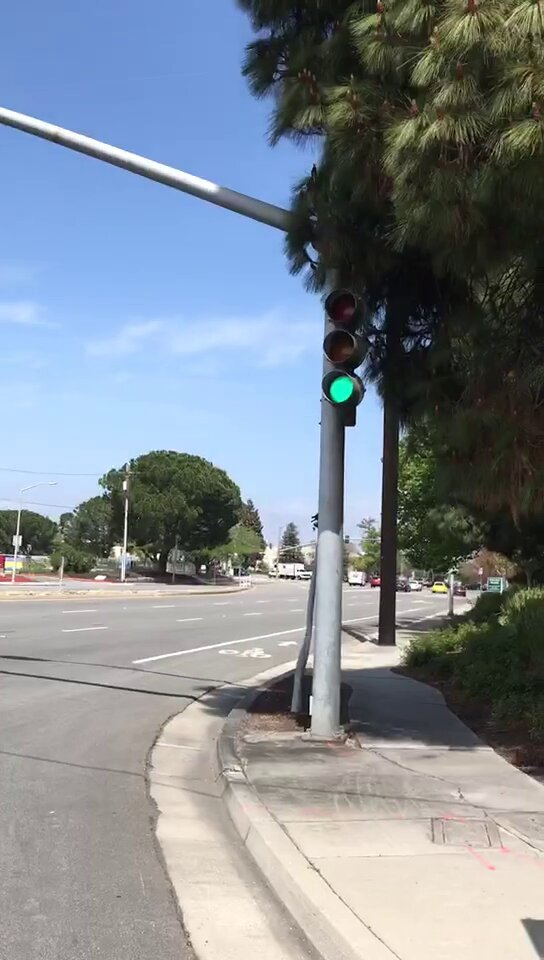green_light: (323, 287, 359, 403)
